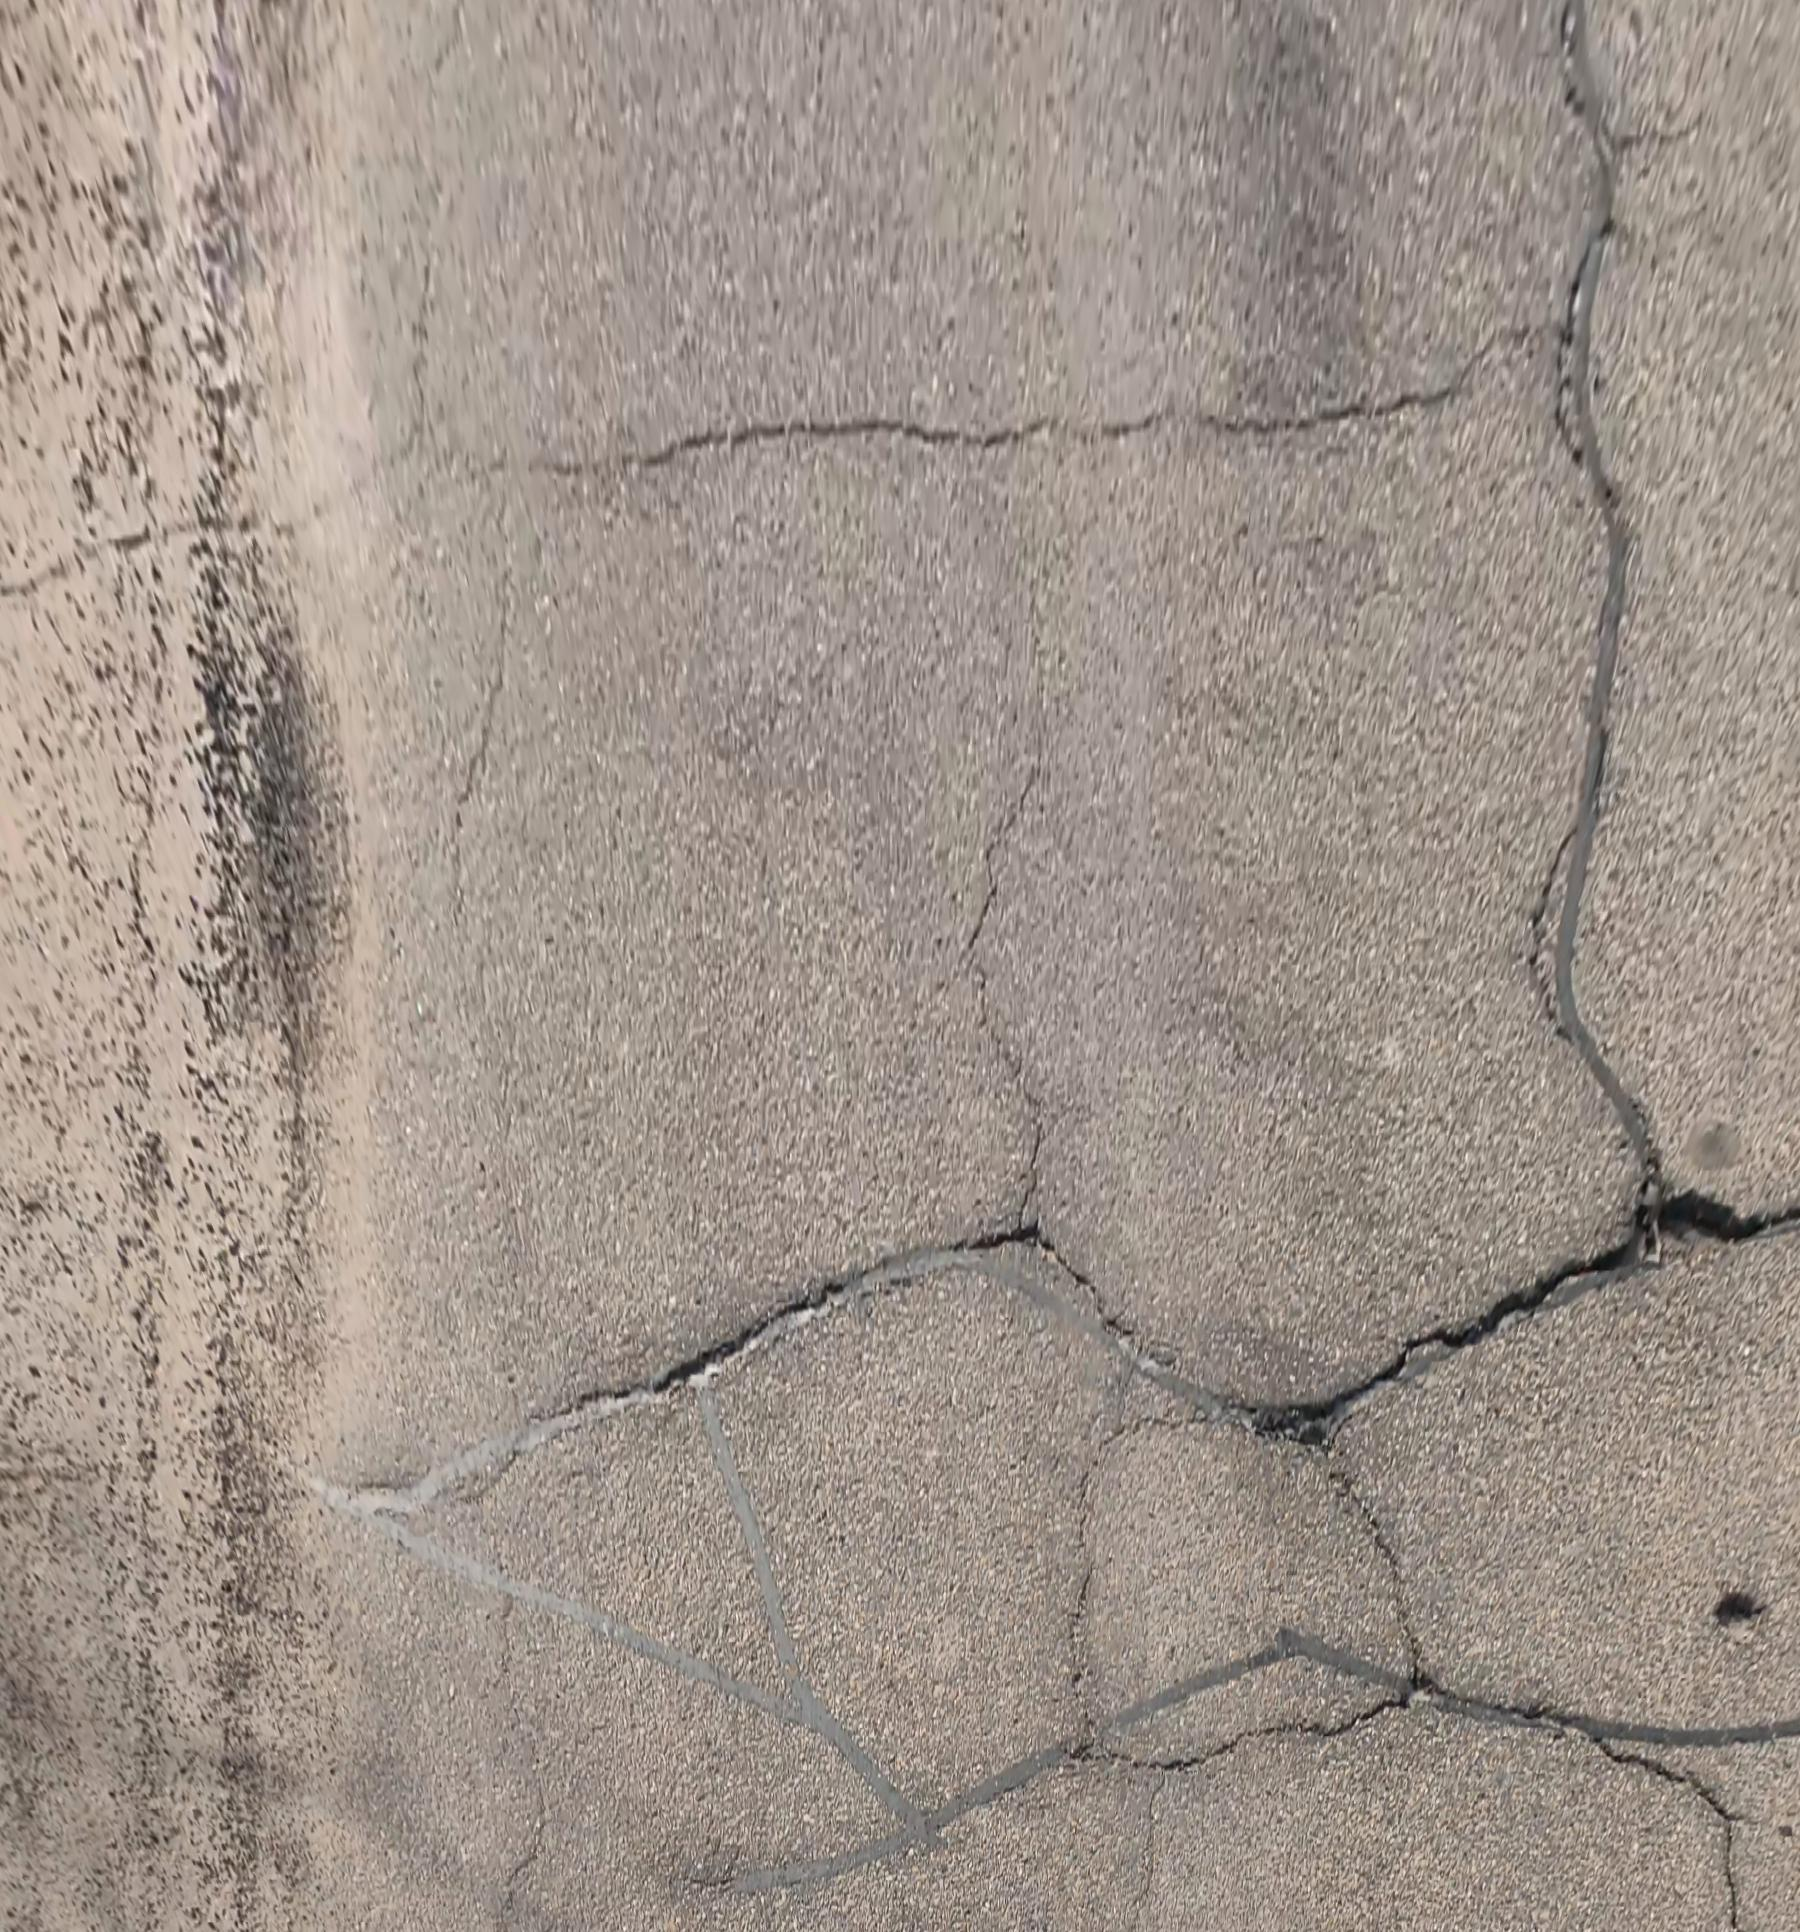pothole: (1715, 1594, 1771, 1631)
